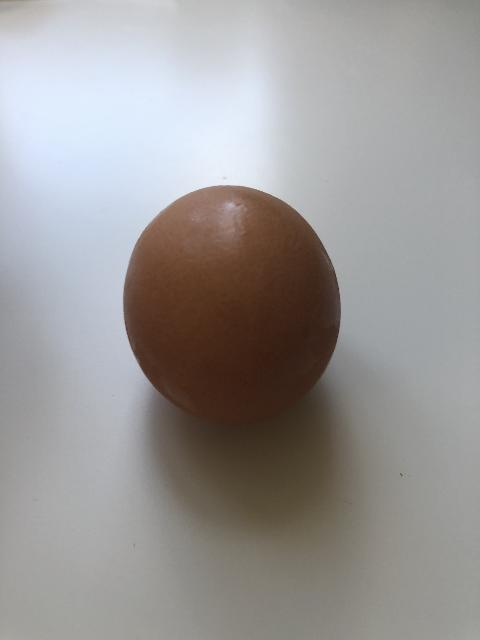Sano: (121, 183, 342, 426)
